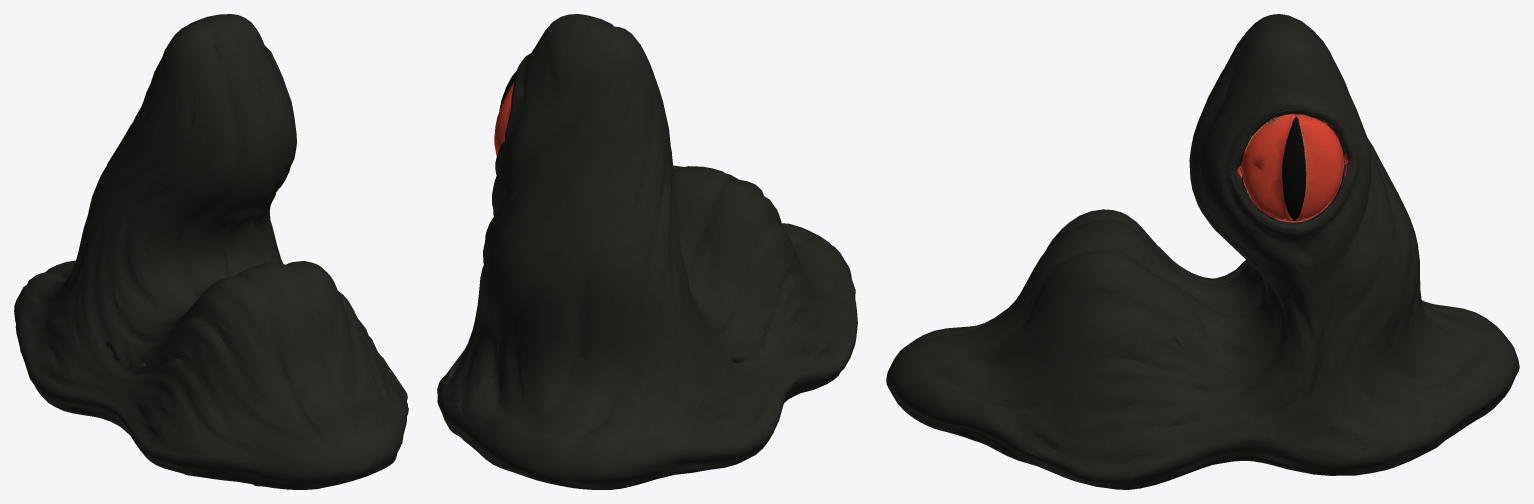
The model's file is Nemi-Symbiote.glb.
The picture shows the model from 3 angles, left to right: view 1: azimuth 30°, elevation 25°; view 2: azimuth 150°, elevation 25°; view 3: azimuth 270°, elevation 25°; orthographic projection. The views are drawn at different scales.
Visible parts, largest first — view 1: tripo_node_cc9764d8-eff0-49be-8d05-362eb3acadcd; view 2: tripo_node_cc9764d8-eff0-49be-8d05-362eb3acadcd; view 3: tripo_node_cc9764d8-eff0-49be-8d05-362eb3acadcd.
Part boxes in pixels (box(x1,y1,x2,y2)): tripo_node_cc9764d8-eff0-49be-8d05-362eb3acadcd: box(14, 14, 408, 489); tripo_node_cc9764d8-eff0-49be-8d05-362eb3acadcd: box(437, 14, 857, 489); tripo_node_cc9764d8-eff0-49be-8d05-362eb3acadcd: box(886, 14, 1519, 489).
Size of the model in its own units: 0.5775 by 0.6961 by 0.9805.
1 material, 1 textured.
